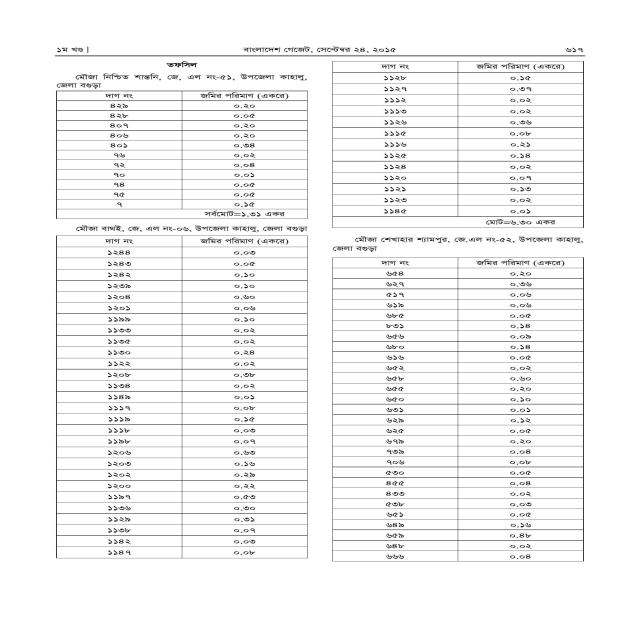page number: (562, 46, 585, 53)
paragraph: (329, 234, 585, 253), (56, 72, 308, 89), (73, 224, 308, 233)
table: (55, 235, 309, 559), (331, 256, 585, 562), (330, 60, 585, 229), (55, 89, 309, 220)
text: (242, 45, 397, 54), (472, 62, 567, 71), (198, 237, 291, 246), (474, 258, 565, 267), (197, 92, 293, 100), (201, 210, 287, 218), (482, 218, 557, 226), (53, 44, 90, 54), (104, 271, 135, 279), (104, 527, 134, 535), (381, 107, 411, 115), (381, 141, 411, 149), (380, 174, 410, 182), (378, 63, 412, 70), (105, 449, 134, 457), (508, 74, 537, 82), (380, 74, 409, 82), (381, 85, 410, 93), (381, 118, 410, 126), (381, 207, 410, 215), (102, 238, 135, 245), (106, 326, 134, 334), (379, 260, 411, 267), (507, 152, 535, 160), (381, 152, 409, 160), (381, 196, 409, 204), (379, 130, 410, 137), (105, 293, 132, 301), (106, 427, 133, 435), (231, 471, 258, 479), (381, 96, 408, 104), (104, 538, 134, 545), (106, 338, 132, 346), (232, 460, 258, 468), (507, 364, 533, 372), (508, 174, 534, 182), (507, 140, 533, 148), (507, 85, 533, 93), (382, 185, 408, 193), (104, 260, 133, 267), (105, 460, 134, 467), (104, 516, 133, 523), (104, 549, 133, 556), (232, 161, 257, 169), (232, 449, 257, 457), (507, 270, 532, 278), (507, 107, 532, 115), (509, 96, 534, 104), (231, 181, 259, 188), (233, 132, 261, 139), (104, 305, 132, 312), (106, 316, 134, 323), (104, 505, 132, 512), (381, 164, 409, 171), (103, 93, 135, 99), (233, 415, 257, 423), (232, 293, 256, 301), (383, 364, 407, 372), (229, 201, 256, 208), (231, 191, 258, 198), (232, 152, 259, 159), (106, 438, 133, 445), (106, 471, 133, 478), (105, 482, 132, 489), (506, 333, 533, 340), (507, 532, 534, 539), (509, 130, 536, 137), (103, 283, 134, 289), (508, 281, 539, 287), (106, 102, 129, 110), (106, 132, 132, 139), (233, 122, 259, 129), (107, 494, 133, 501), (232, 538, 258, 545), (232, 494, 258, 501), (232, 483, 258, 490), (232, 405, 258, 412), (231, 383, 257, 390), (232, 361, 258, 368), (231, 338, 257, 345), (508, 501, 534, 508), (507, 522, 533, 529), (507, 197, 533, 204), (508, 186, 534, 193), (384, 479, 406, 487), (232, 171, 257, 178), (232, 142, 257, 149), (232, 527, 257, 534), (232, 438, 257, 445), (233, 327, 258, 334), (232, 305, 257, 312), (231, 283, 256, 290), (508, 354, 533, 361), (508, 375, 533, 382), (508, 407, 533, 414), (508, 448, 533, 455), (508, 459, 533, 466), (508, 479, 533, 486), (507, 553, 532, 560), (508, 208, 533, 215), (508, 163, 533, 170), (509, 119, 534, 126), (108, 361, 132, 368), (232, 394, 256, 401), (232, 316, 256, 323), (383, 501, 407, 508), (383, 438, 407, 445), (384, 395, 405, 403), (508, 343, 532, 350), (508, 385, 532, 392), (509, 417, 533, 424), (509, 438, 533, 445), (104, 250, 131, 256), (105, 405, 132, 411), (105, 416, 132, 422), (230, 550, 257, 556), (233, 516, 256, 523), (383, 417, 406, 424), (509, 490, 532, 497), (231, 103, 257, 109), (231, 506, 257, 512), (232, 428, 258, 434), (231, 372, 257, 378), (231, 250, 257, 256), (508, 292, 534, 298), (508, 428, 534, 434), (508, 512, 534, 518), (507, 544, 533, 550), (108, 142, 130, 149), (384, 521, 406, 528), (384, 459, 406, 466), (384, 385, 406, 392), (384, 375, 406, 382), (383, 322, 405, 329), (384, 333, 406, 340), (384, 312, 406, 319), (106, 123, 131, 129), (232, 113, 257, 119), (107, 372, 132, 378), (107, 394, 132, 400), (232, 261, 257, 267), (382, 470, 407, 476), (508, 302, 533, 308), (508, 313, 533, 319), (384, 511, 405, 518), (385, 448, 406, 455), (384, 354, 405, 361), (384, 281, 405, 288), (107, 113, 131, 119), (108, 383, 132, 389), (383, 543, 407, 549), (383, 491, 407, 497), (508, 323, 532, 329), (508, 470, 532, 476), (233, 350, 256, 356), (233, 272, 256, 278), (383, 428, 406, 434), (509, 396, 532, 402), (385, 406, 404, 413), (384, 533, 406, 539), (384, 344, 406, 350), (384, 292, 406, 298), (384, 271, 406, 277), (112, 151, 128, 159), (385, 554, 406, 560), (384, 302, 405, 308), (107, 350, 132, 355), (112, 162, 127, 169), (112, 191, 127, 198), (112, 172, 126, 179), (113, 182, 127, 188), (113, 201, 125, 208)
title: (164, 61, 201, 69)
